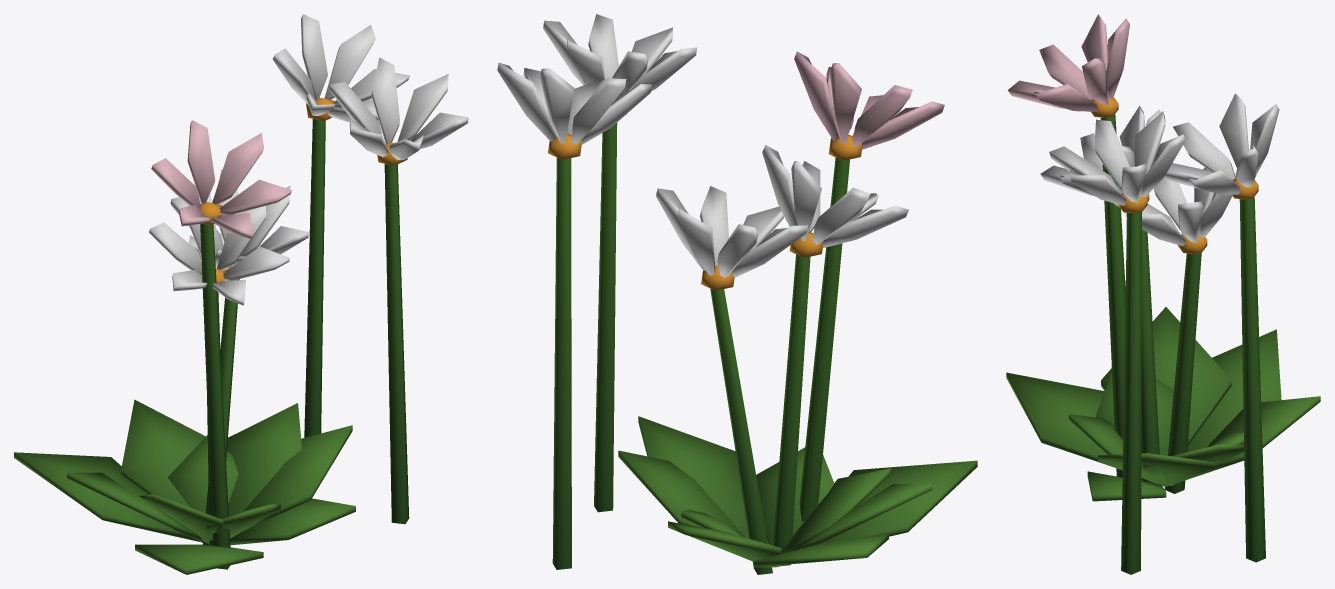
Rendered from flowers_lily_lod1.glb.
3 renders of one model, left to right at view 1: azimuth 30°, elevation 25°; view 2: azimuth 150°, elevation 25°; view 3: azimuth 270°, elevation 25°, orthographic. The views are drawn at different scales.
Visible parts, largest first — view 1: flowers_lily_lod1; view 2: flowers_lily_lod1; view 3: flowers_lily_lod1.
Part boxes in pixels (x1,y1,x2,y2): flowers_lily_lod1: (14,14,468,574); flowers_lily_lod1: (497,14,977,574); flowers_lily_lod1: (1006,14,1320,574).
Bounding box in the file's own units: 0.4548 × 0.5434 × 0.3398.
